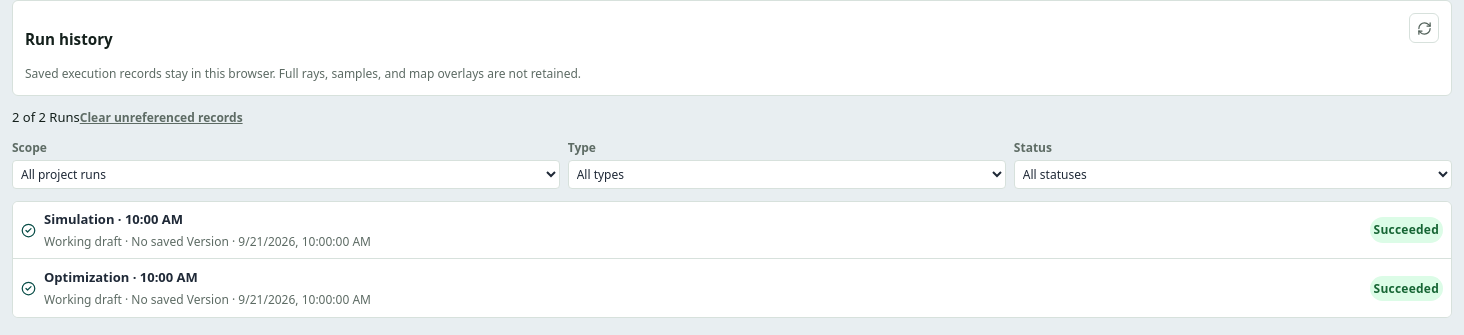
Test: RunHistoryPanel › filters the list and presents one empty state when no Runs match
Select "Optimization" in the dropdown named "Run history type". click: (787, 175)
box: [568,160,1006,189]
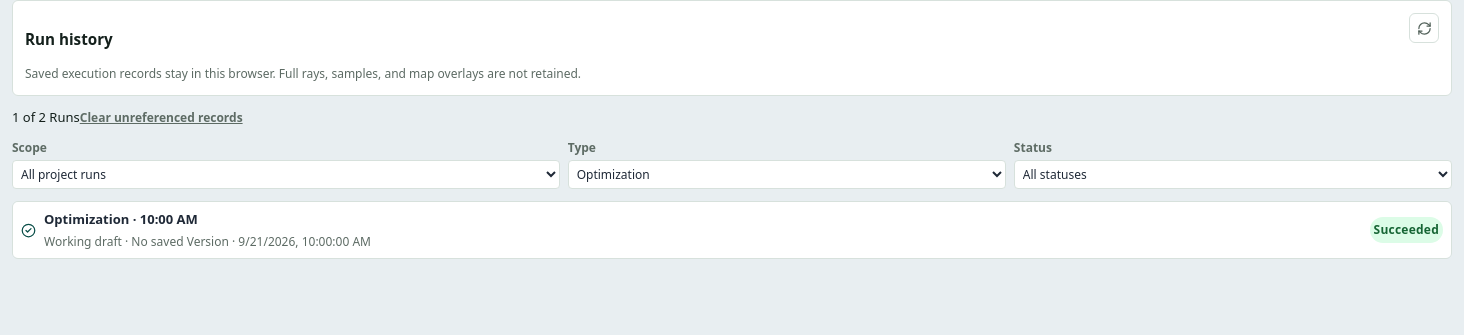
expect the button with aria-label "Open Optimization · 10:00 AM, Succeeded, Working draft · No" is shown: met, box [13,202,1451,258]
Select "Failed" in the dropdown named "Run history status". click: (1233, 175)
box: [1014,160,1452,189]
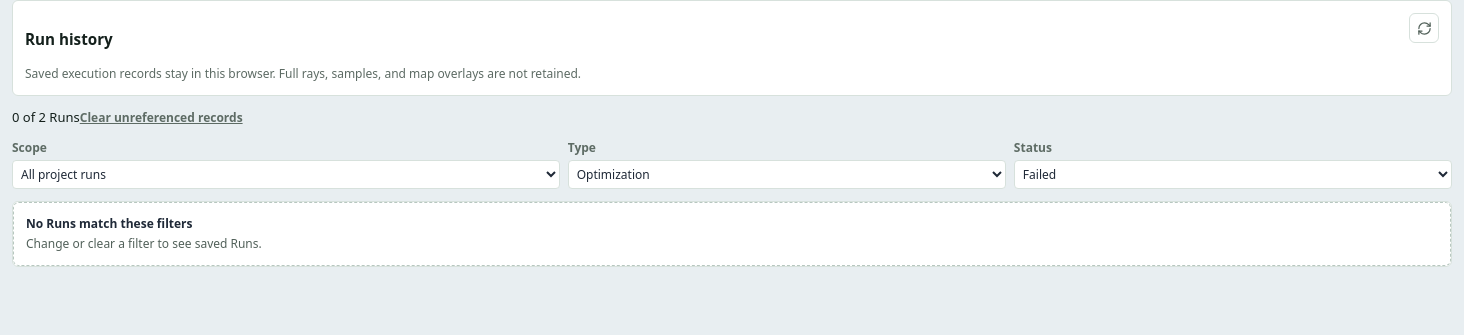
expect the text "No Runs match these filters" is shown: met, box [26,215,192,232]
